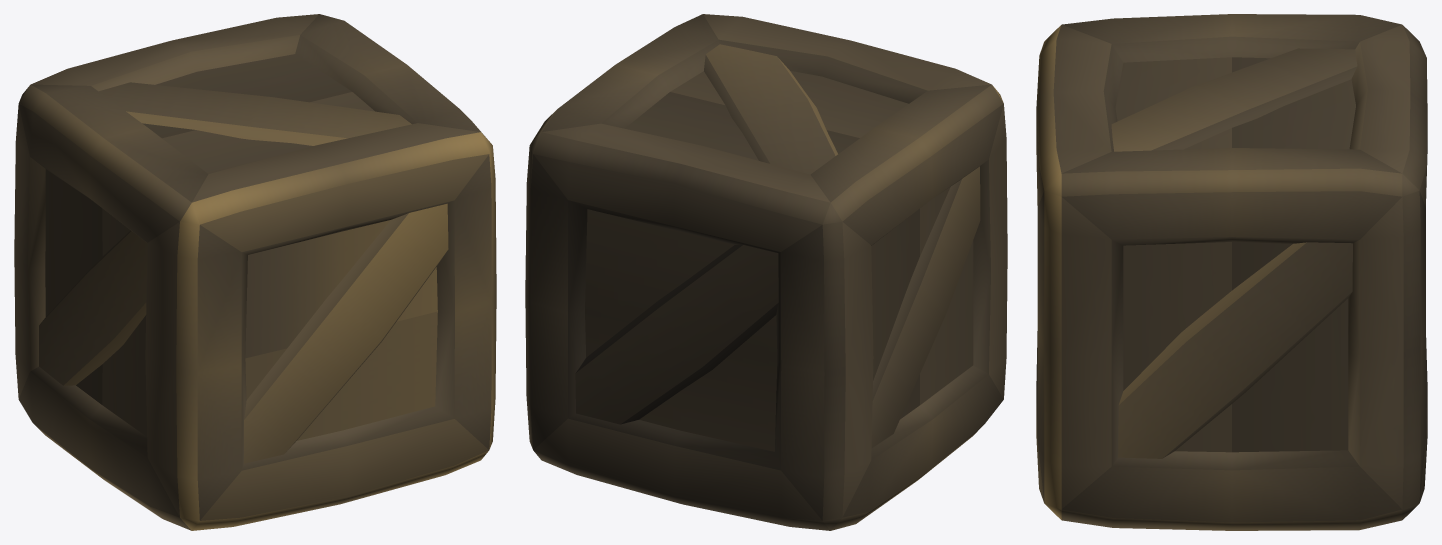
The model's file is orc_box_large_2.fbx.
3 views of the same model, side by side, from view 1: azimuth 30°, elevation 25°; view 2: azimuth 150°, elevation 25°; view 3: azimuth 270°, elevation 25° (orthographic). The views are drawn at different scales.
Visible parts, largest first — view 1: orc_box_large_2; view 2: orc_box_large_2; view 3: orc_box_large_2.
Boxes of the visible parts, left/top/right/bottom form: orc_box_large_2: left=14, top=14, right=496, bottom=530; orc_box_large_2: left=525, top=14, right=1007, bottom=530; orc_box_large_2: left=1036, top=14, right=1427, bottom=530.
Bounding box in the file's own units: 106 × 105 × 102.
